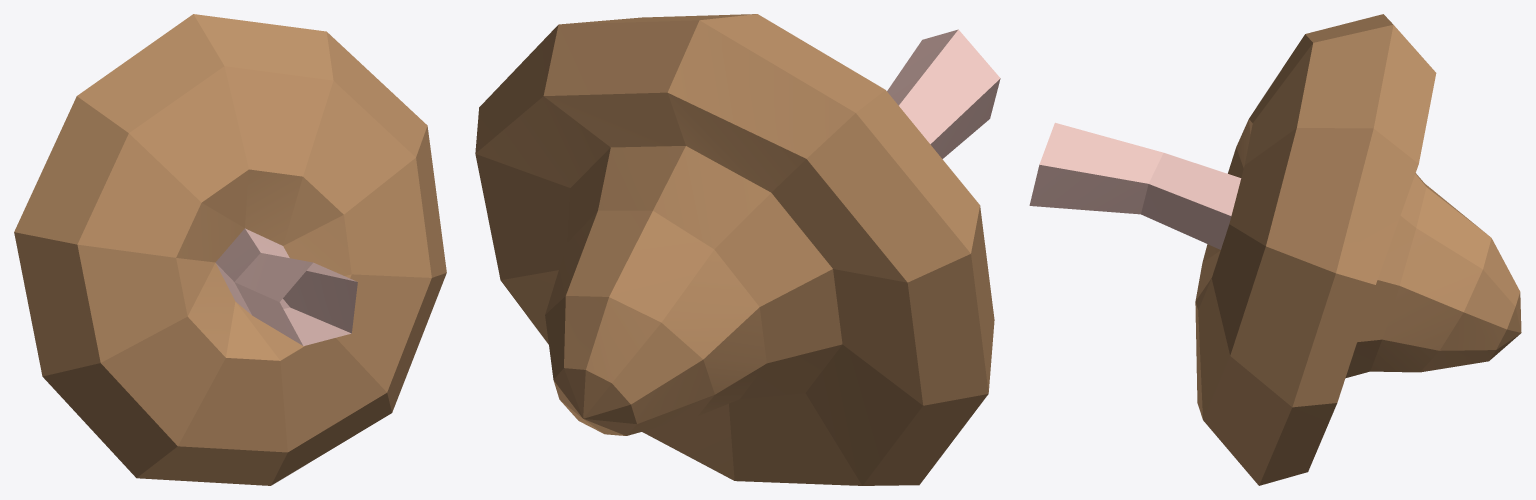
File: MushroomYellow.fbx
The picture shows the model from 3 angles, left to right: view 1: azimuth 30°, elevation 25°; view 2: azimuth 150°, elevation 25°; view 3: azimuth 270°, elevation 25°; orthographic projection. The views are drawn at different scales.
Visible parts, largest first — view 1: MushroomYellow.040; view 2: MushroomYellow.040; view 3: MushroomYellow.040.
Boxes of the visible parts, x1,y1,x2,y2 form: MushroomYellow.040: [14, 14, 446, 485]; MushroomYellow.040: [475, 14, 1000, 485]; MushroomYellow.040: [1029, 14, 1521, 485].
Bounding box in the file's own units: 40.85 × 40.78 × 41.75.
